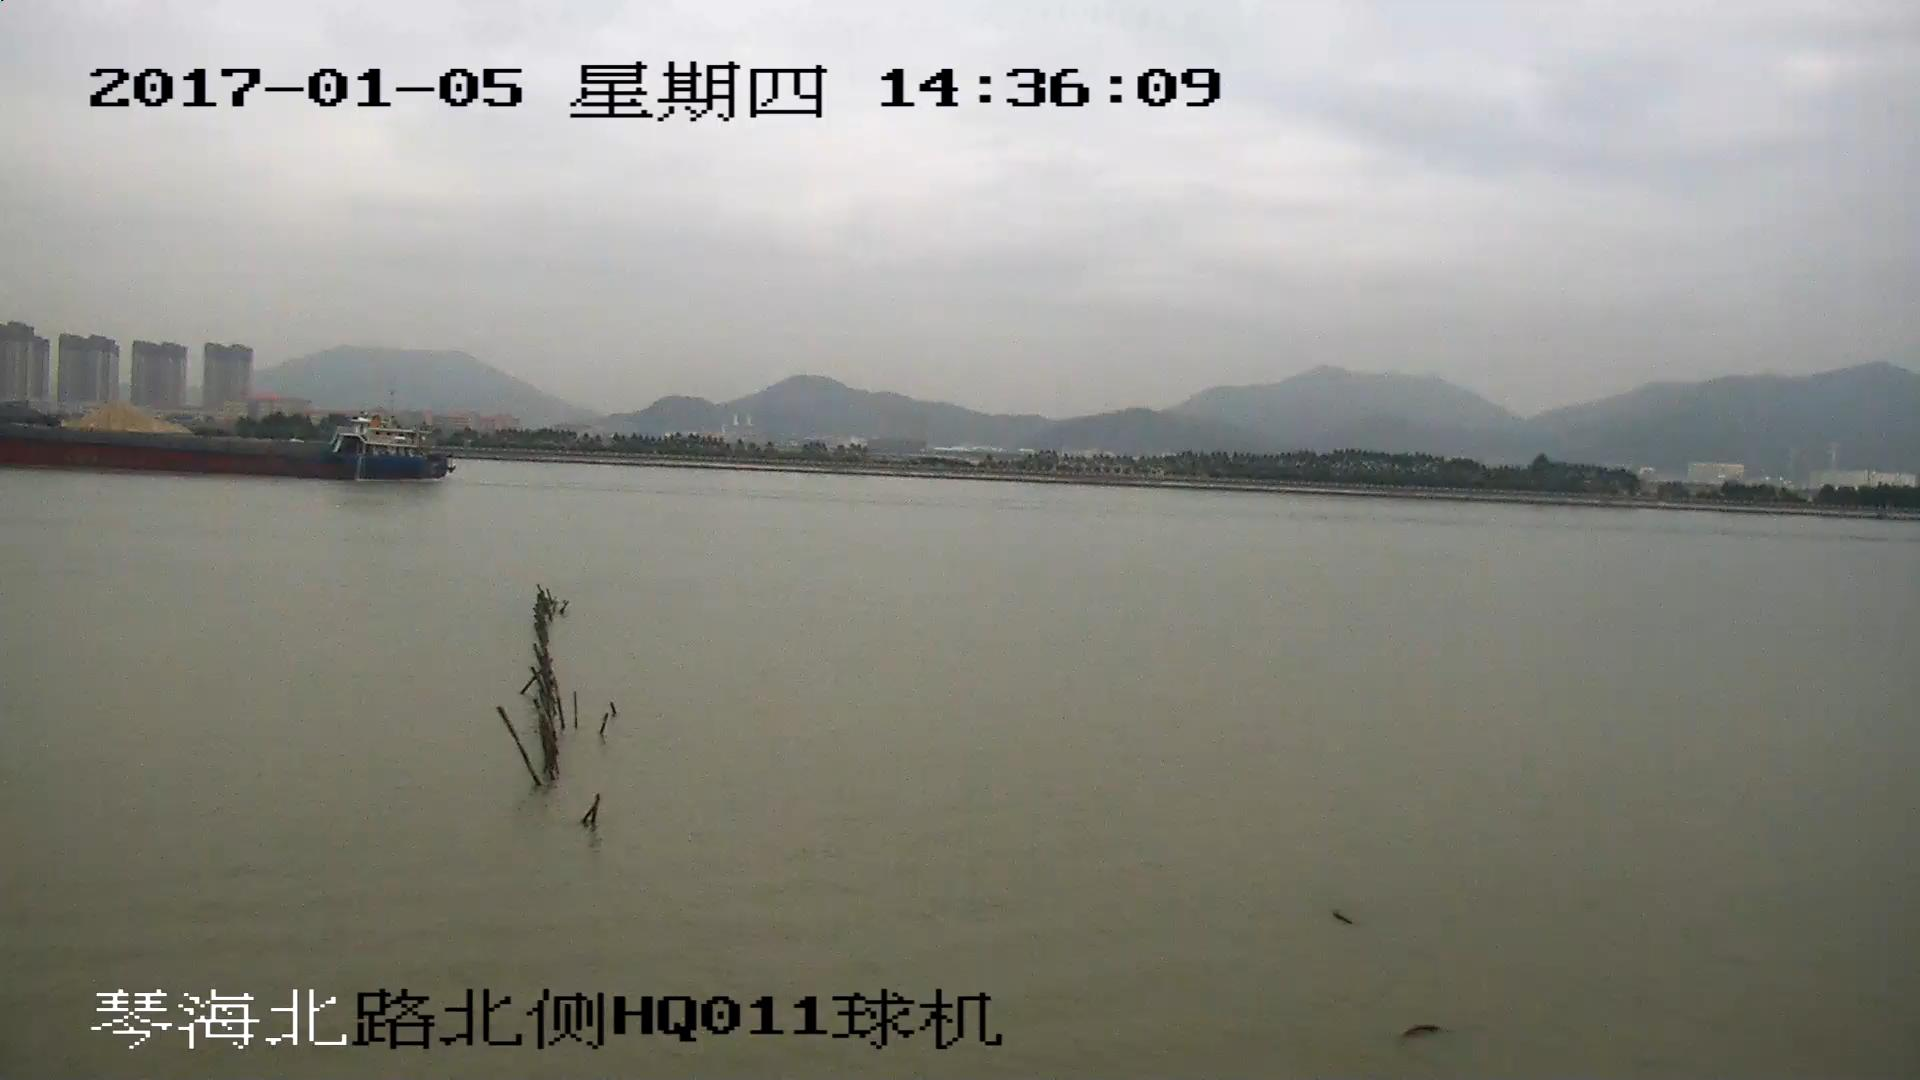bulk cargo carrier: (1, 417, 456, 479)
